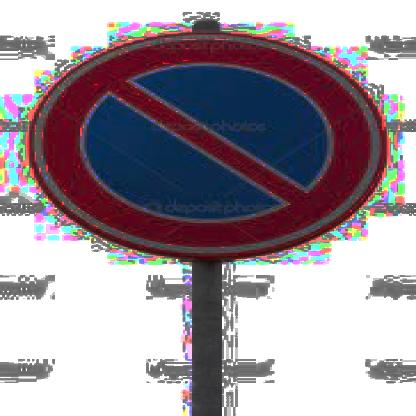No parking: (12, 23, 413, 263)
